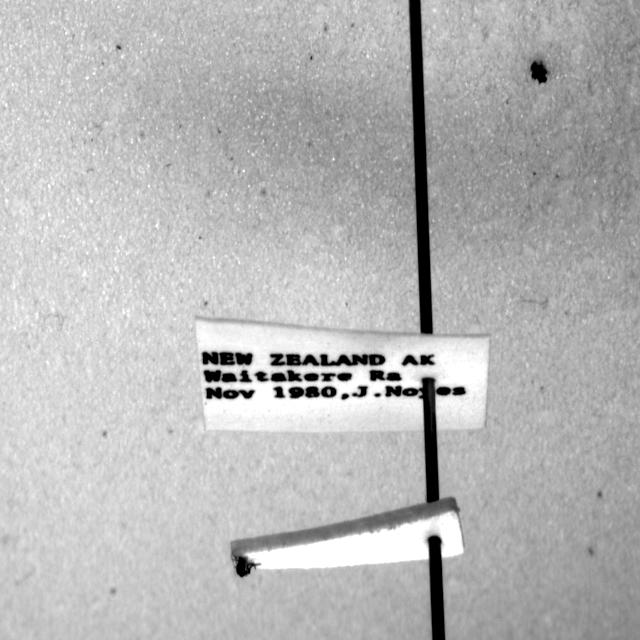typed_label: (195, 319, 490, 431)
